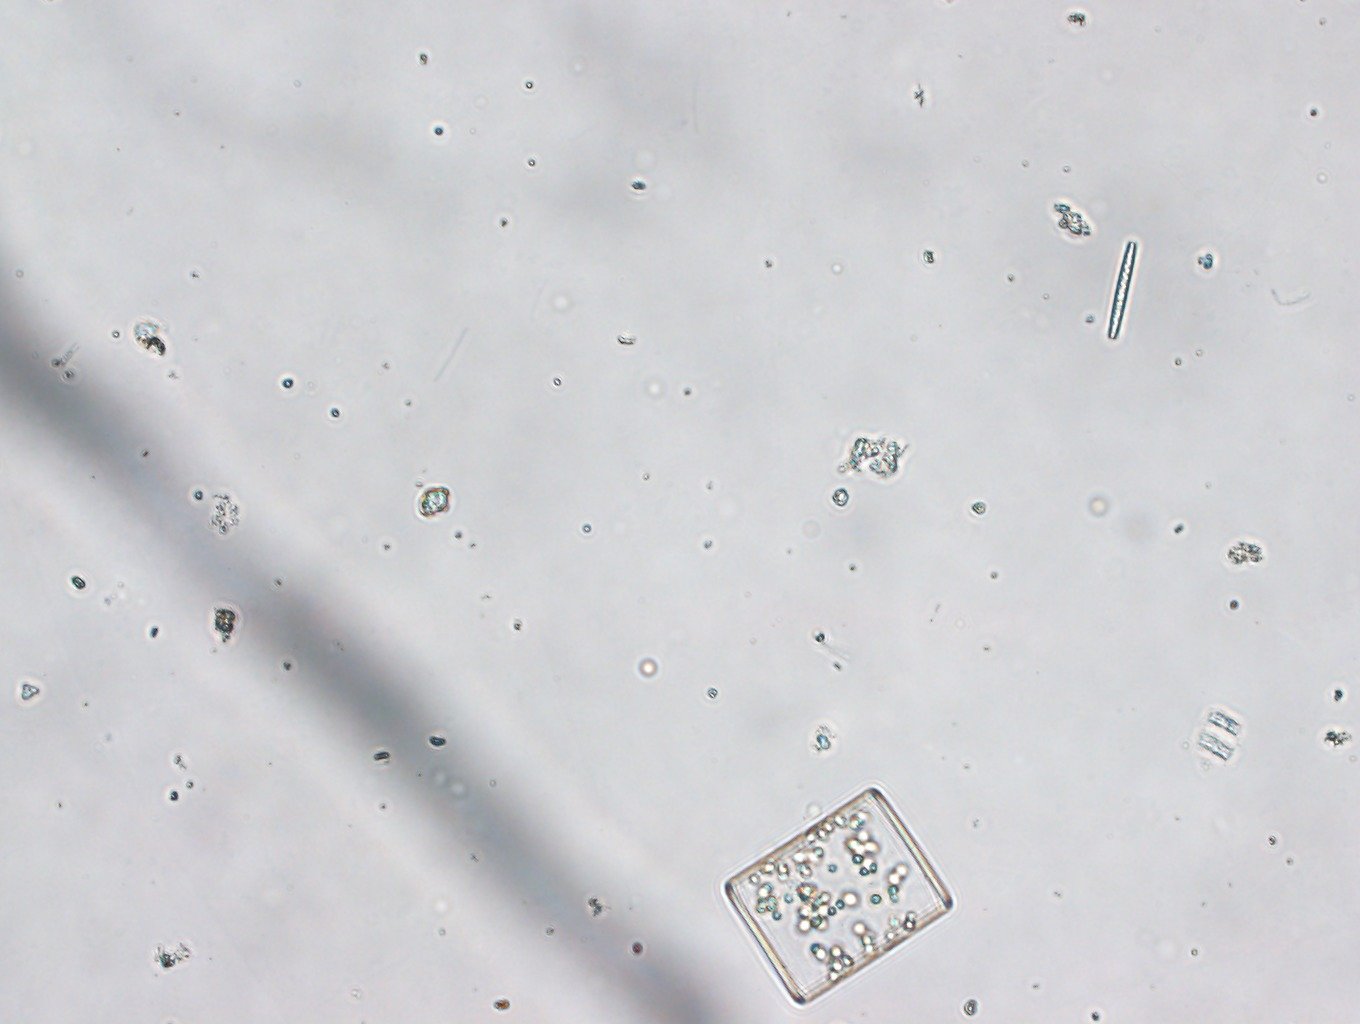guinardia flaccida: (718, 781, 960, 1005)
